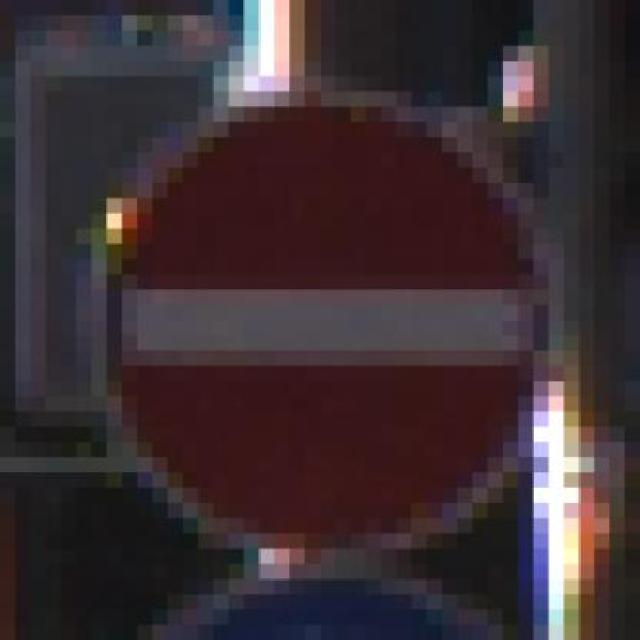B2: (100, 91, 550, 556)
